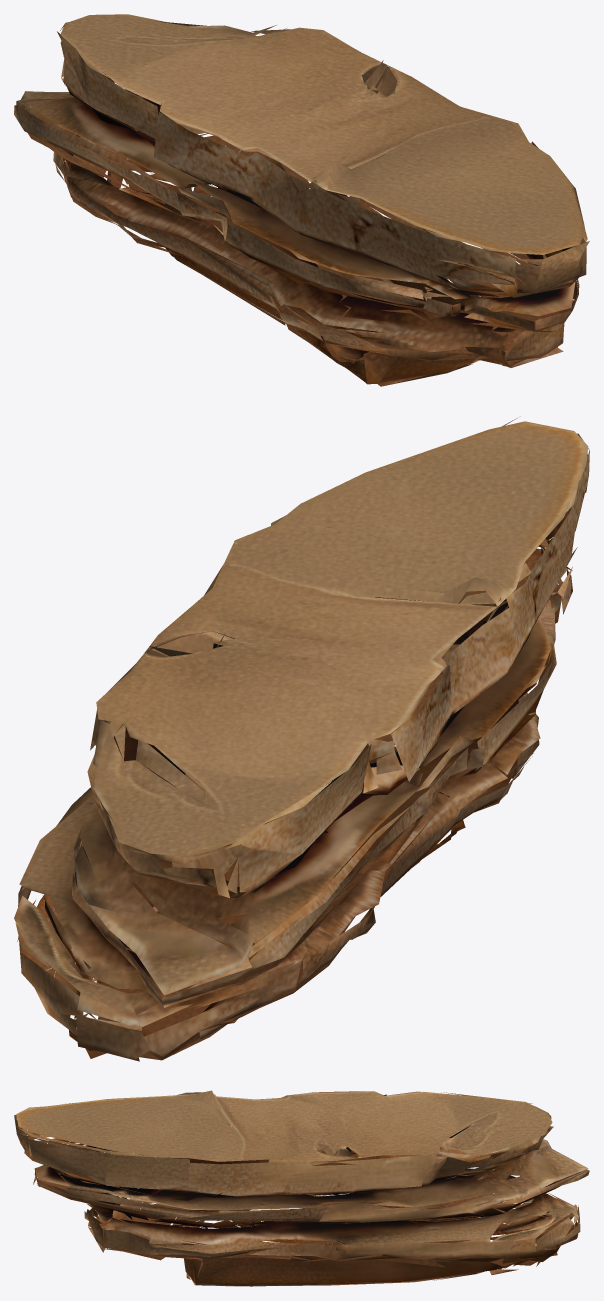
Rendered from desert_ledge_b_single_lod1.glb.
3 renders of one model, top to bottom at view 1: azimuth 30°, elevation 25°; view 2: azimuth 150°, elevation 25°; view 3: azimuth 270°, elevation 25°, orthographic. The views are drawn at different scales.
Visible parts, largest first — view 1: desert_ledge_b_single.001; view 2: desert_ledge_b_single.001; view 3: desert_ledge_b_single.001.
Boxes of the visible parts, box(x1,y1,x2,y2) form: desert_ledge_b_single.001: box(14, 14, 589, 386); desert_ledge_b_single.001: box(14, 416, 589, 1061); desert_ledge_b_single.001: box(14, 1090, 589, 1286).
Bounding box in the file's own units: 1.32 × 0.9821 × 3.42.
Materials: 1 (1 with a texture image).
